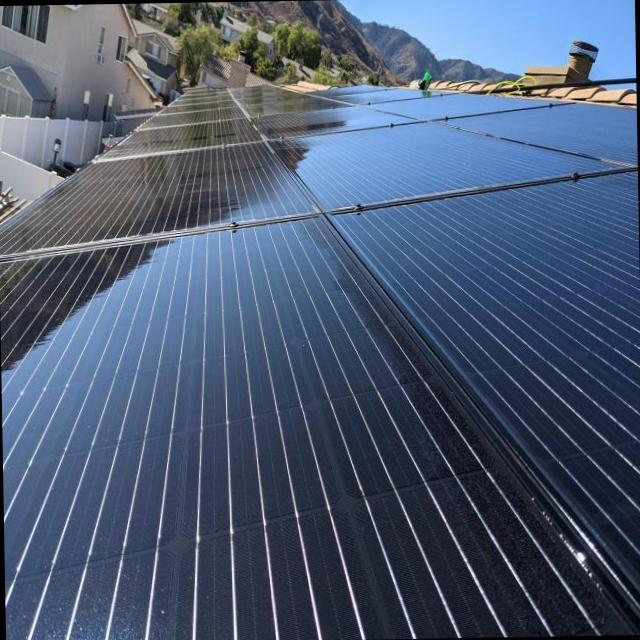no faulty: (2, 221, 620, 640), (333, 172, 640, 597), (1, 142, 313, 250), (281, 125, 595, 206), (467, 110, 637, 168)
